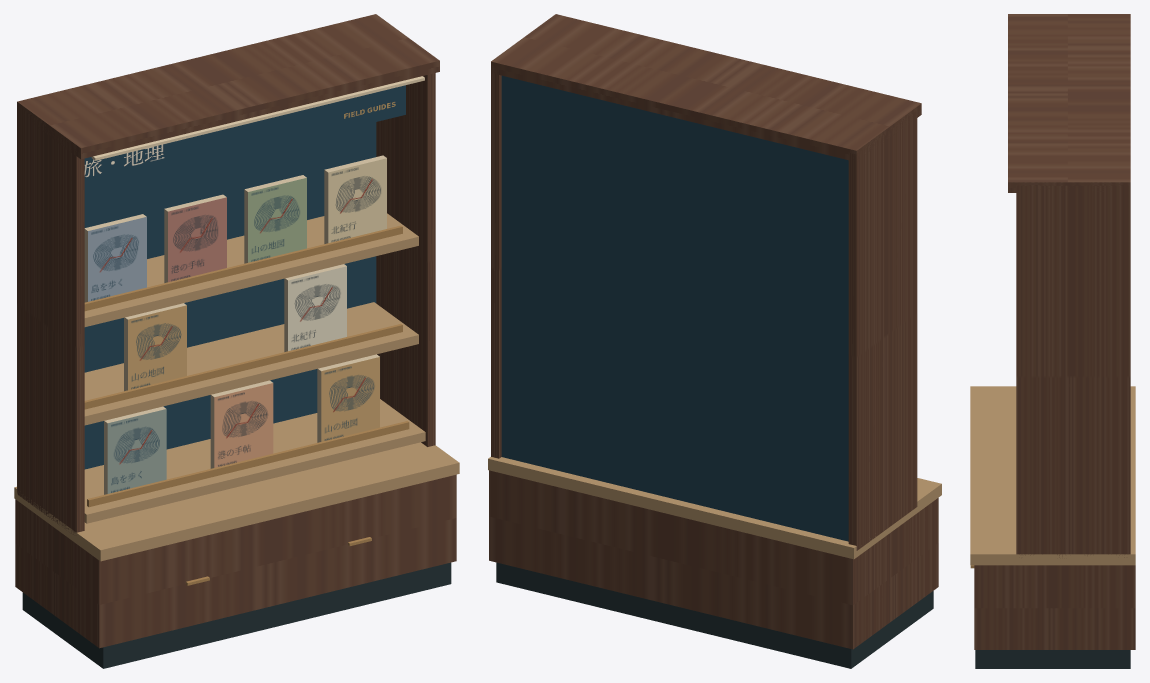
File: orienne_field_0.glb
The picture shows the model from 3 angles, left to right: view 1: azimuth 30°, elevation 25°; view 2: azimuth 150°, elevation 25°; view 3: azimuth 270°, elevation 25°; orthographic projection. The views are drawn at different scales.
Size of the model in its own units: 1.95 by 2.64 by 0.81.
1 material, 1 textured.
